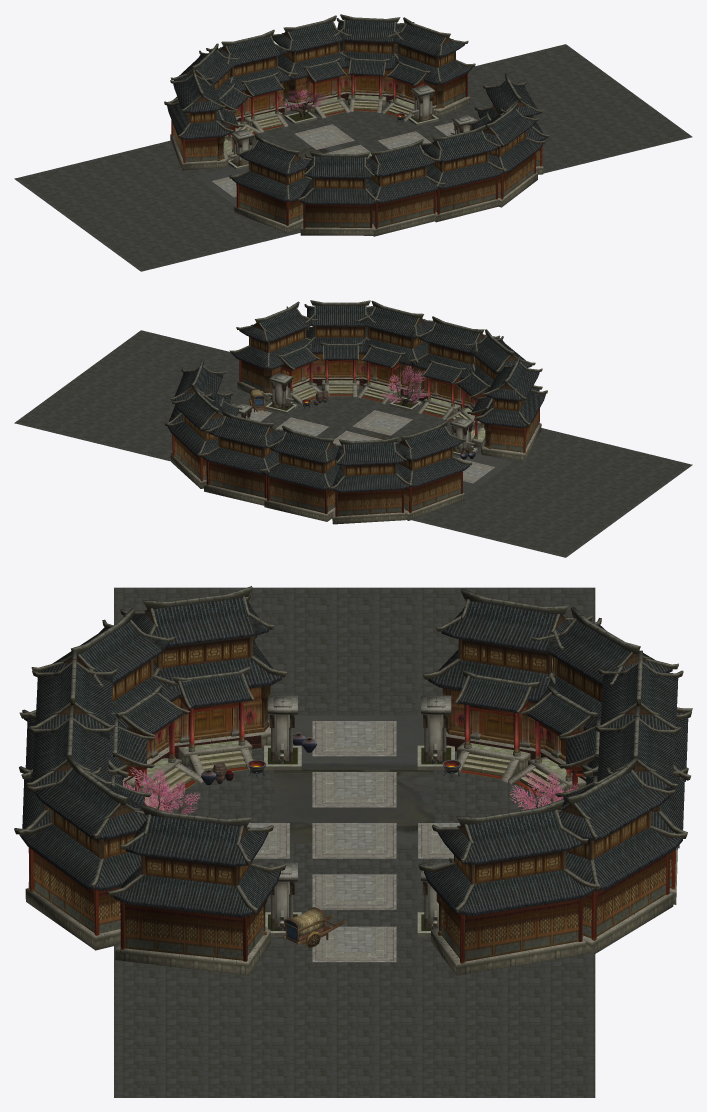
3 renders of one model, top to bottom at view 1: azimuth 30°, elevation 25°; view 2: azimuth 150°, elevation 25°; view 3: azimuth 270°, elevation 25°, orthographic. The views are drawn at different scales.
Visible parts, largest first — view 1: Building_JianAnCheng_DiMian_004_prefab, Building_ChengShi_JianZhu02_003_prefab, Building_ChengShi_JianZhu02_002_prefab, Building_ChengShi_JianZhu02_001_prefab, Building_JianAnCheng_DiMian_003_001_prefab, Building_JianAnCheng_ZhuZi_001_001_prefab, Tree_ChengShi_TaoShuZhi_001_prefab, Building_JianAnCheng_ZhuZi_001_002_prefab; view 2: Building_JianAnCheng_DiMian_004_prefab, Building_ChengShi_JianZhu02_003_prefab, Building_ChengShi_JianZhu02_002_prefab, Building_ChengShi_JianZhu02_001_prefab, Building_JianAnCheng_DiMian_003_001_prefab, Building_JianAnCheng_ZhuZi_001_001_prefab, Tree_ChengShi_TaoShuZhi_001_prefab, Building_JianAnCheng_ZhuZi_001_002_prefab; view 3: Building_JianAnCheng_DiMian_004_prefab, Building_ChengShi_JianZhu02_003_prefab, Building_ChengShi_JianZhu02_002_prefab, Building_ChengShi_JianZhu02_001_prefab, Building_JianAnCheng_DiMian_003_001_prefab, Building_JianAnCheng_ZhuZi_001_001_prefab, Tree_ChengShi_TaoShuZhi_001_prefab, Building_JianAnCheng_ZhuZi_001_002_prefab, Building_ChengShi_MaChe_001_prefab, Building_JianAnCheng_HuaTan_001_001_prefab, Tree_ChengShi_TaoShuZhi_002_prefab.
Boxes of the visible parts, x1=… form: Building_JianAnCheng_DiMian_004_prefab: x1=14, y1=44, x2=692, y2=271; Building_ChengShi_JianZhu02_003_prefab: x1=167, y1=20, x2=546, y2=205; Building_ChengShi_JianZhu02_002_prefab: x1=164, y1=14, x2=549, y2=228; Building_ChengShi_JianZhu02_001_prefab: x1=170, y1=41, x2=543, y2=236; Building_JianAnCheng_DiMian_003_001_prefab: x1=212, y1=117, x2=476, y2=197; Building_JianAnCheng_ZhuZi_001_001_prefab: x1=230, y1=85, x2=475, y2=165; Tree_ChengShi_TaoShuZhi_001_prefab: x1=286, y1=89, x2=328, y2=110; Building_JianAnCheng_ZhuZi_001_002_prefab: x1=235, y1=94, x2=470, y2=162; Building_JianAnCheng_DiMian_004_prefab: x1=14, y1=330, x2=692, y2=557; Building_ChengShi_JianZhu02_003_prefab: x1=167, y1=305, x2=545, y2=492; Building_ChengShi_JianZhu02_002_prefab: x1=164, y1=300, x2=547, y2=516; Building_ChengShi_JianZhu02_001_prefab: x1=170, y1=326, x2=541, y2=524; Building_JianAnCheng_DiMian_003_001_prefab: x1=232, y1=403, x2=494, y2=483; Building_JianAnCheng_ZhuZi_001_001_prefab: x1=233, y1=373, x2=473, y2=452; Tree_ChengShi_TaoShuZhi_001_prefab: x1=381, y1=365, x2=425, y2=402; Building_JianAnCheng_ZhuZi_001_002_prefab: x1=237, y1=382, x2=468, y2=450; Building_JianAnCheng_DiMian_004_prefab: x1=114, y1=587, x2=595, y2=1097; Building_ChengShi_JianZhu02_003_prefab: x1=20, y1=598, x2=688, y2=917; Building_ChengShi_JianZhu02_002_prefab: x1=14, y1=586, x2=692, y2=963; Building_ChengShi_JianZhu02_001_prefab: x1=25, y1=637, x2=679, y2=975; Building_JianAnCheng_DiMian_003_001_prefab: x1=247, y1=721, x2=460, y2=962; Building_JianAnCheng_ZhuZi_001_001_prefab: x1=267, y1=695, x2=451, y2=928; Tree_ChengShi_TaoShuZhi_001_prefab: x1=123, y1=767, x2=563, y2=812; Building_JianAnCheng_ZhuZi_001_002_prefab: x1=274, y1=714, x2=443, y2=927; Building_ChengShi_MaChe_001_prefab: x1=283, y1=907, x2=345, y2=947; Building_JianAnCheng_HuaTan_001_001_prefab: x1=264, y1=745, x2=454, y2=936; Tree_ChengShi_TaoShuZhi_002_prefab: x1=147, y1=779, x2=577, y2=814.
Bounding box in the file's own units: 112 × 14.88 × 62.86.
